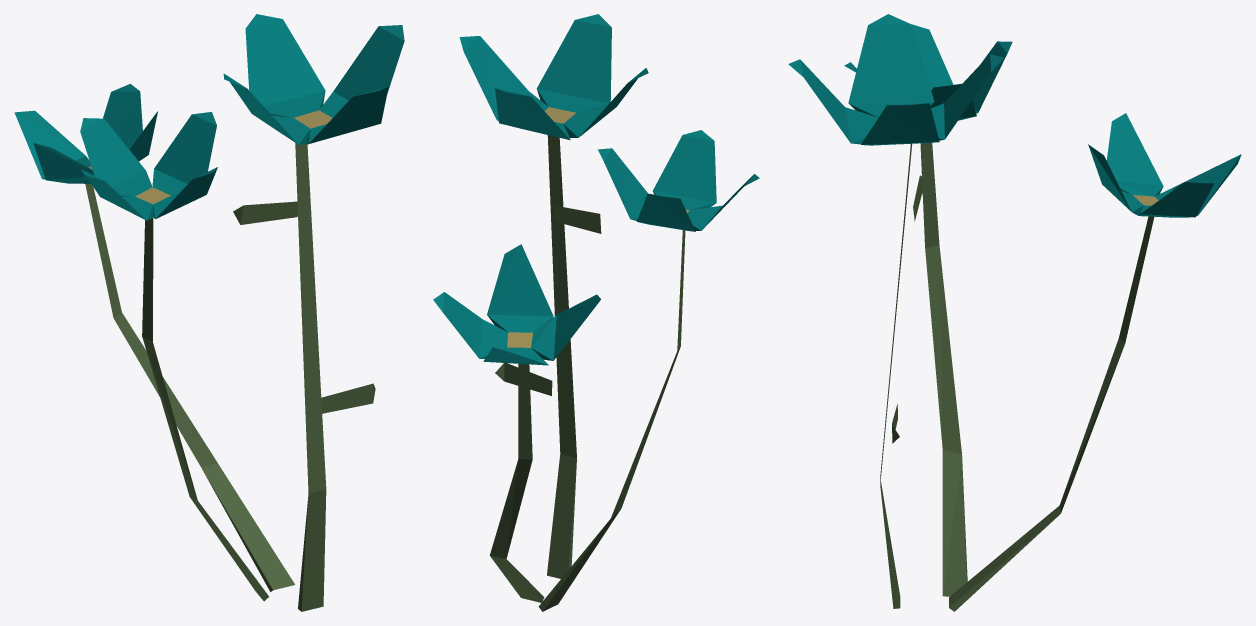
File: plant_flower_4.glb
3 views of the same model, side by side, from view 1: azimuth 30°, elevation 25°; view 2: azimuth 150°, elevation 25°; view 3: azimuth 270°, elevation 25° (orthographic). The views are drawn at different scales.
Visible parts, largest first — view 1: plant_flower_4; view 2: plant_flower_4; view 3: plant_flower_4.
Part boxes in pixels (x1=…): plant_flower_4: x1=14, y1=14, x2=404, y2=611; plant_flower_4: x1=433, y1=14, x2=759, y2=611; plant_flower_4: x1=788, y1=14, x2=1241, y2=611.
Bounding box in the file's own units: 0.4786 × 0.8044 × 0.6.
